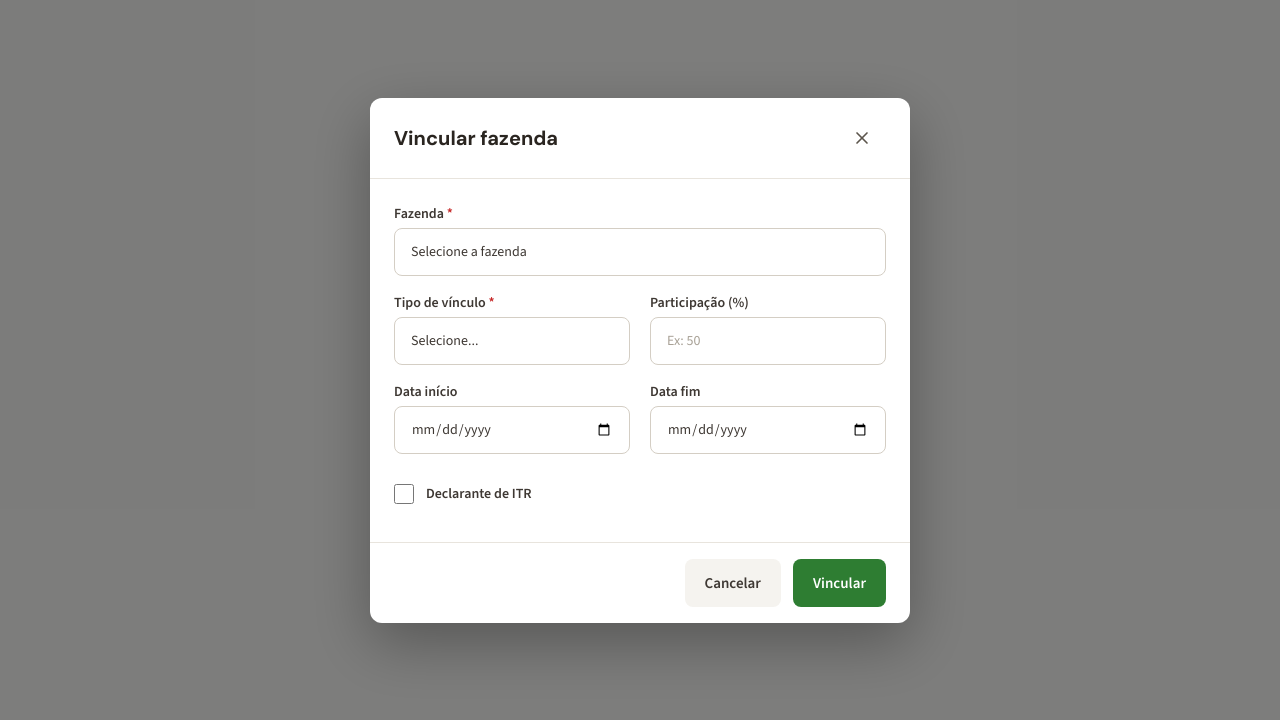
FarmLinkFormModal › should not submit with validation errors
Click the button "Vincular" at (840, 582), box [793,558,886,606]
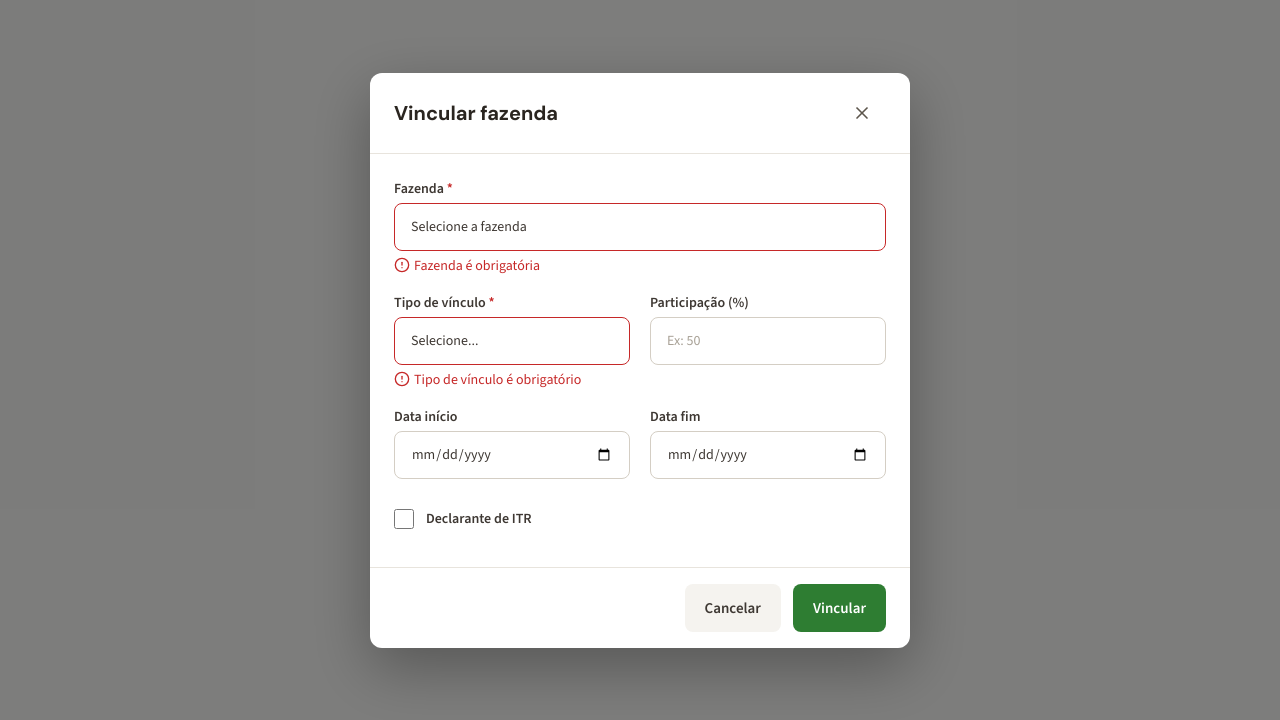
Check: the text "Fazenda é obrigatória" is shown, box [394,256,540,274]
Check: the text "Tipo de vínculo é obrigatório" is shown, box [394,370,581,388]
